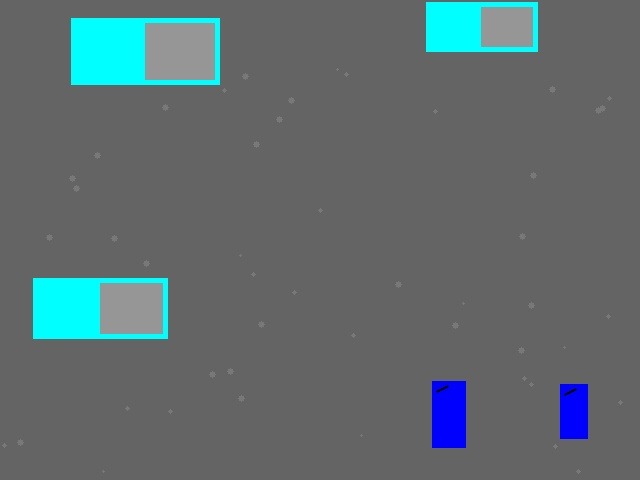motorcycle: (432, 381, 465, 447), (560, 384, 587, 438)
truck: (71, 18, 219, 84), (33, 278, 167, 338), (426, 2, 537, 51)
